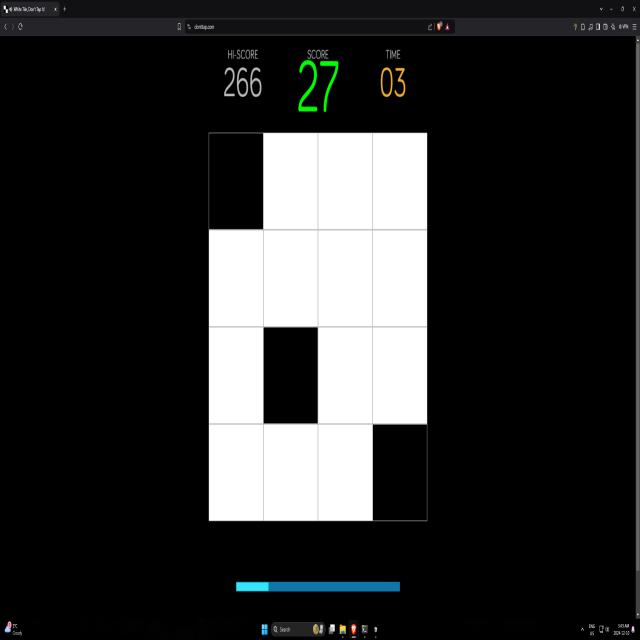black-tile: (262, 324, 320, 426), (208, 131, 264, 233), (372, 424, 428, 526)
